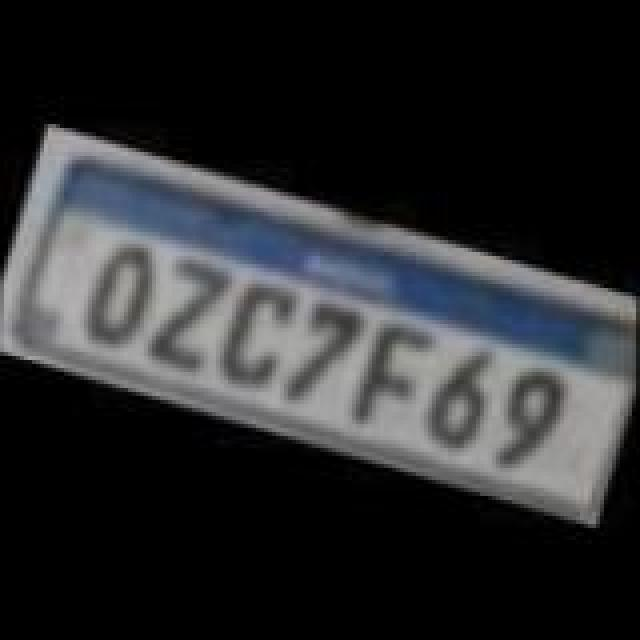6: (414, 328, 506, 452)
7: (276, 284, 368, 416)
9: (478, 346, 570, 478)
C: (210, 266, 298, 390)
F: (348, 304, 436, 440)
O: (74, 232, 154, 352)
Z: (144, 254, 236, 374)
